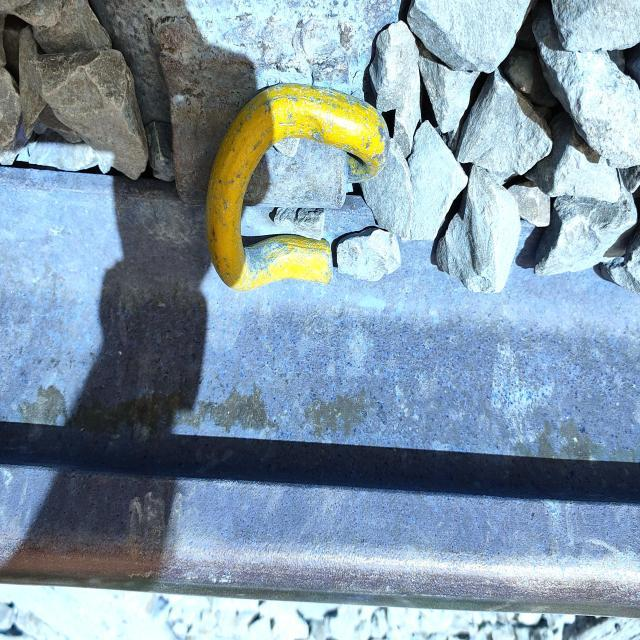Good Fasteners: (93, 0, 399, 290)
